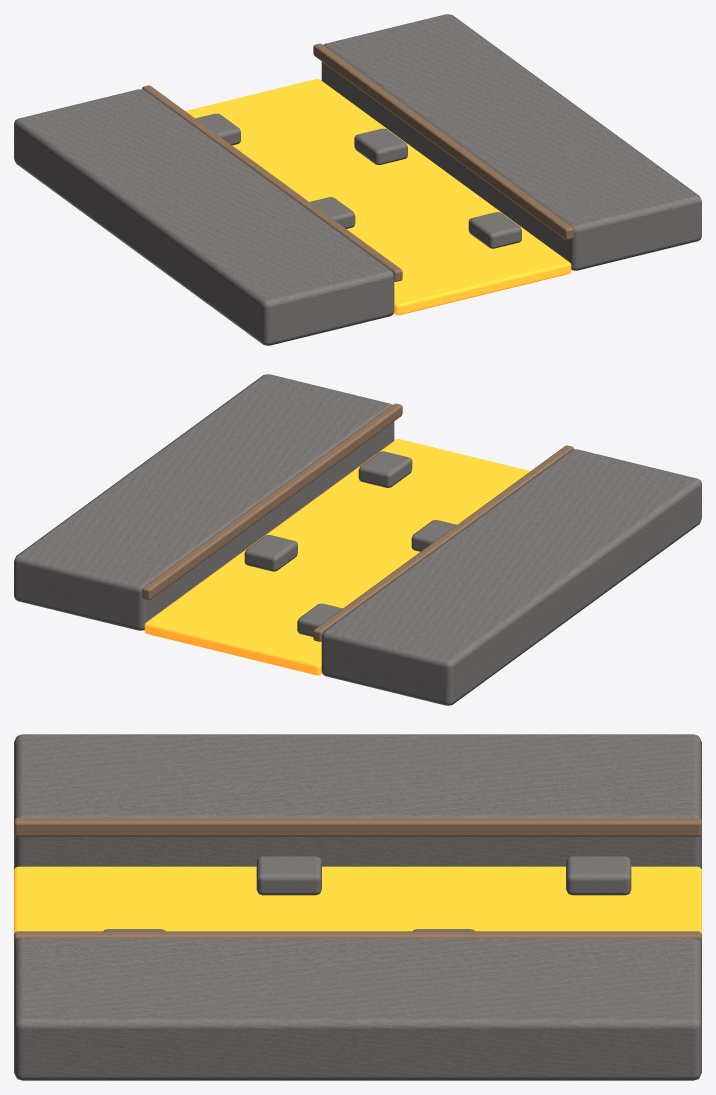
File: arena-shooter-map-kit-lava-channel-83a63028__23080.glb
3 views of the same model, one above another, from view 1: azimuth 30°, elevation 25°; view 2: azimuth 150°, elevation 25°; view 3: azimuth 270°, elevation 25° (orthographic). The views are drawn at different scales.
Parts seen in each view (by area): view 1: lava-channel; view 2: lava-channel; view 3: lava-channel.
Part boxes in pixels (x1,y1,x2,y2): lava-channel: (14,14,701,345); lava-channel: (14,374,701,705); lava-channel: (14,734,701,1080).
Bounding box in the file's own units: 2 × 0.2001 × 2.
Materials: 3 (1 with a texture image).
